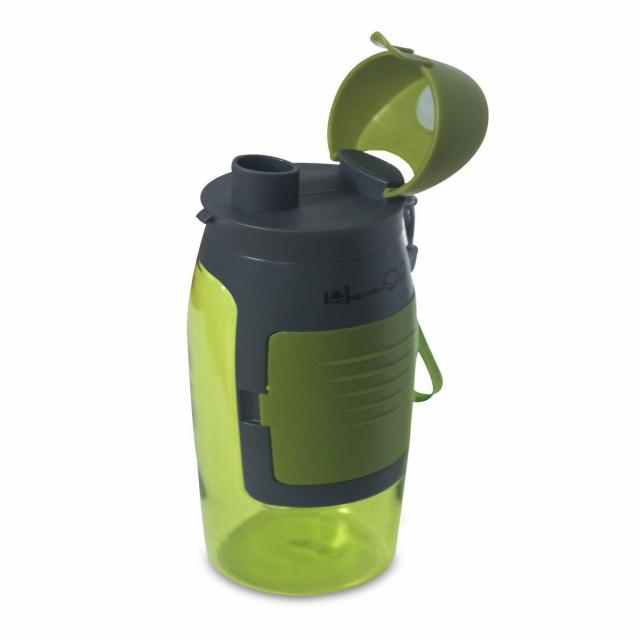gym bottle: (180, 150, 426, 600)
